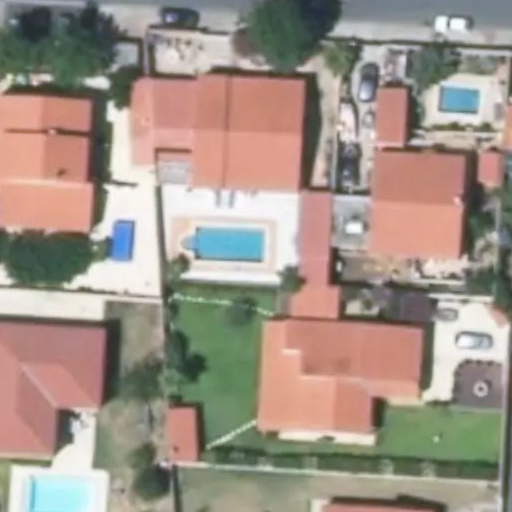pool: (181, 228, 267, 263), (29, 478, 91, 512), (439, 85, 484, 116), (109, 219, 136, 261)
